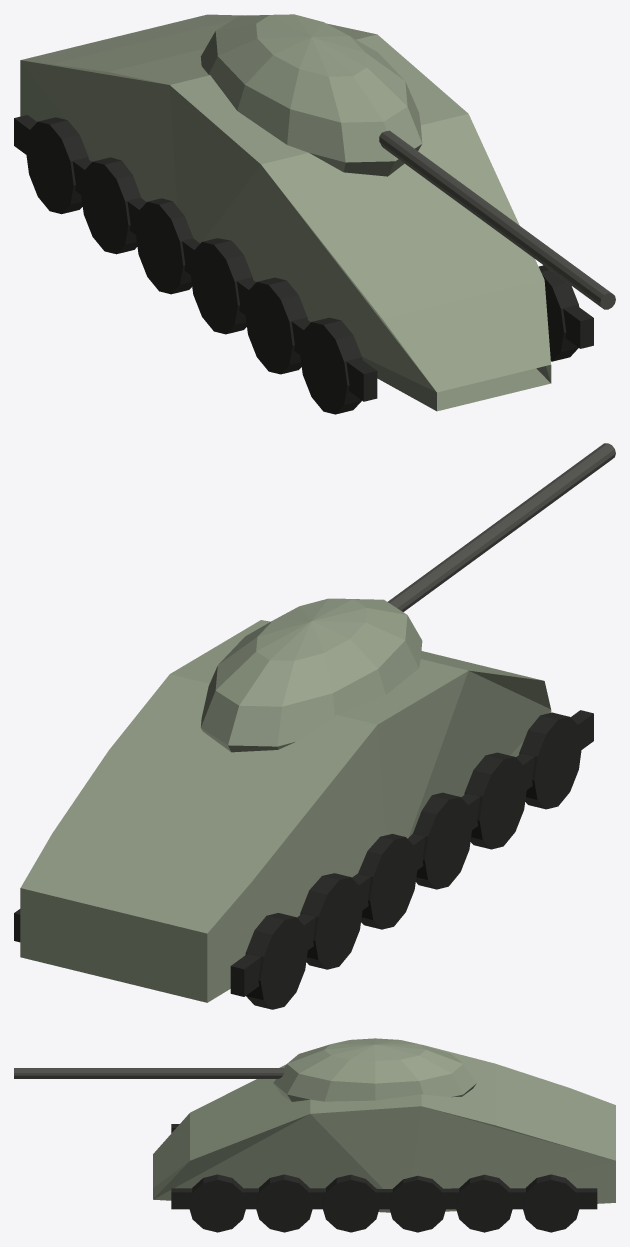
File: himars.glb
The picture shows the model from 3 angles, top to bottom: view 1: azimuth 30°, elevation 25°; view 2: azimuth 150°, elevation 25°; view 3: azimuth 270°, elevation 25°; orthographic projection. The views are drawn at different scales.
Parts seen in each view (by area): view 1: Hull, Turret, Gun, Wheel_L_01, Wheel_L_02, Wheel_L_06, Wheel_L_03, Wheel_L_05, Wheel_L_04, Track_L, Wheel_R_01, Track_R; view 2: Hull, Turret, Gun, Wheel_L_06, Wheel_L_02, Wheel_L_01, Wheel_L_05, Wheel_L_03, Wheel_L_04, Track_L; view 3: Hull, Turret, Gun, Wheel_R_06, Wheel_R_01, Wheel_R_02, Wheel_R_05, Wheel_R_03, Wheel_R_04, Track_R.
Boxes of the visible parts, <box> form: Hull: <box>20,14,551,411</box>; Turret: <box>200,14,422,176</box>; Gun: <box>379,130,615,309</box>; Wheel_L_01: <box>299,317,362,414</box>; Wheel_L_02: <box>245,277,307,374</box>; Wheel_L_06: <box>26,117,88,214</box>; Wheel_L_03: <box>190,238,252,334</box>; Wheel_L_05: <box>80,157,141,254</box>; Wheel_L_04: <box>135,198,193,294</box>; Track_L: <box>14,115,377,401</box>; Wheel_R_01: <box>539,265,579,361</box>; Track_R: <box>563,305,593,348</box>; Hull: <box>20,620,551,1002</box>; Turret: <box>200,598,422,752</box>; Gun: <box>388,443,615,611</box>; Wheel_L_06: <box>245,913,308,1009</box>; Wheel_L_02: <box>464,752,527,849</box>; Wheel_L_01: <box>519,712,581,809</box>; Wheel_L_05: <box>300,873,362,969</box>; Wheel_L_03: <box>413,792,472,889</box>; Wheel_L_04: <box>358,834,417,929</box>; Track_L: <box>230,710,593,996</box>; Hull: <box>153,1044,615,1212</box>; Turret: <box>273,1038,476,1101</box>; Gun: <box>14,1068,284,1078</box>; Wheel_R_06: <box>522,1174,580,1232</box>; Wheel_R_01: <box>188,1174,246,1232</box>; Wheel_R_02: <box>255,1174,313,1232</box>; Wheel_R_05: <box>455,1174,513,1232</box>; Wheel_R_03: <box>322,1174,380,1232</box>; Wheel_R_04: <box>388,1175,446,1232</box>; Track_R: <box>171,1188,597,1209</box>.
Bounding box in the file's own units: 2.5 × 2.55 × 9.1.
